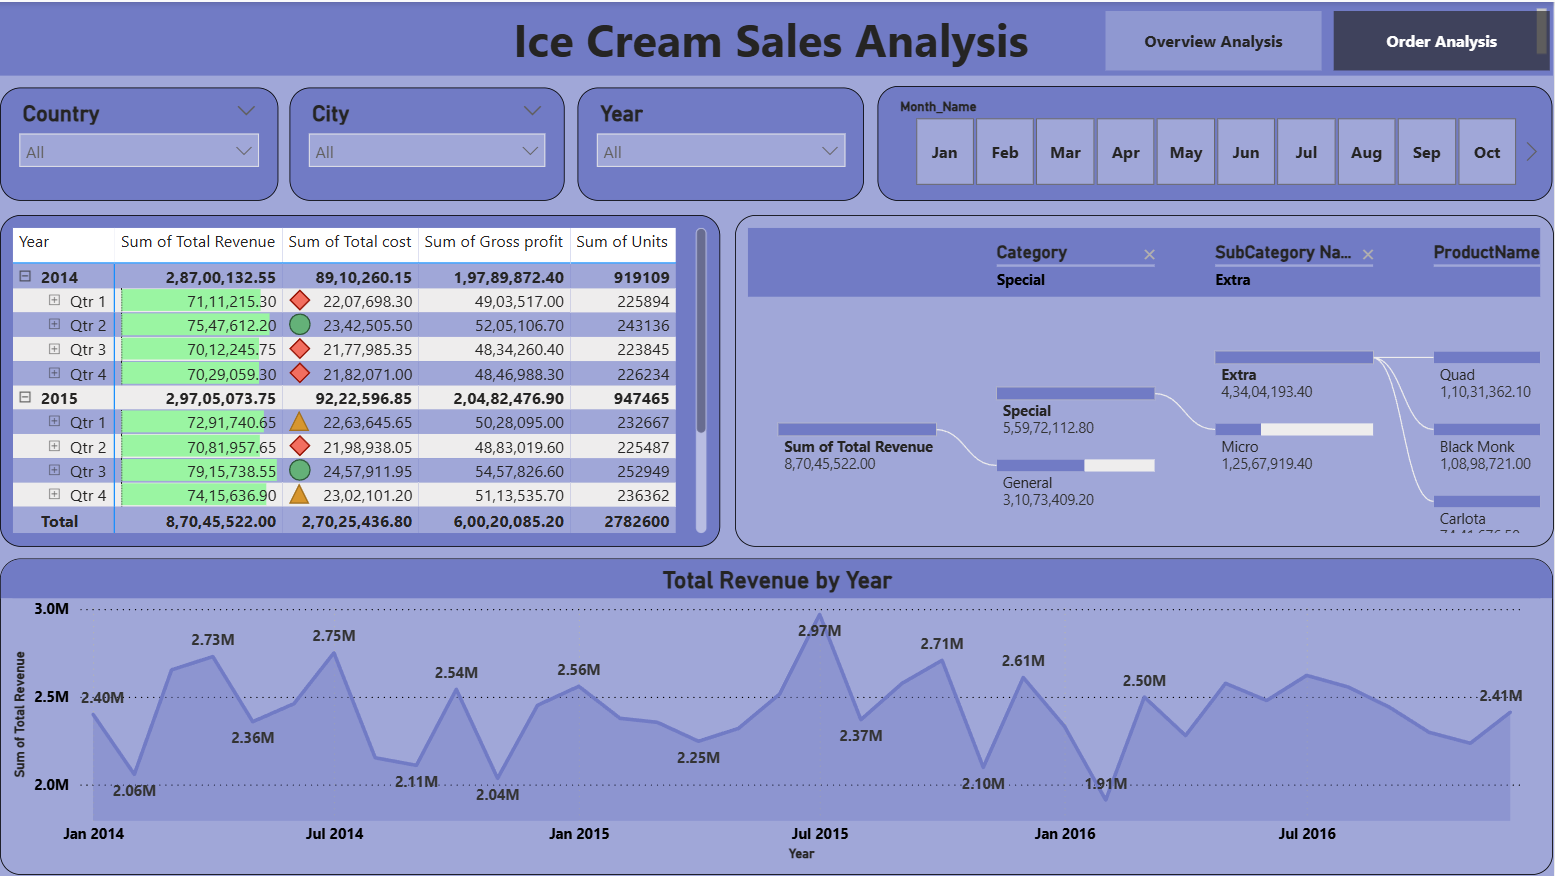

This screenshot's page, from the dashboard's own definition file:
{"tool":"powerbi","page":{"name":"Order Analysis","canvas":[1280,720],"ordinal":1},"visuals":[{"type":"slicer","fields":{"Values":["Date Master.Year"]},"box":[476.2,70,236,93.3],"z":0},{"type":"actionButton","box":[0,0,100,40],"z":1000},{"type":"textbox","box":[0,0,1279,60.4],"z":2000},{"type":"slicer","fields":{"Values":["Geography.Country"]},"box":[0,70,229.2,93.3],"z":3000},{"type":"slicer","fields":{"Values":["Geography.city"]},"box":[238.8,70,226.4,93.3],"z":4000},{"type":"slicer","fields":{"Values":["Date Master.Month_Name"]},"box":[723.2,68.6,555.8,94.7],"z":5000},{"type":"lineChart","title":"Total Revenue by Year","fields":{"Category":["Date Master.Date.Variation.Date Hierarchy.Year","Date Master.Date.Variation.Date Hierarchy.Quarter","Date Master.Date.Variation.Date Hierarchy.Month","Date Master.Date.Variation.Date Hierarchy.Day"],"Y":["Sum(Final Sales.Total Revenue)"]},"box":[0,458.8,1279.5,260.4],"z":6000},{"type":"pivotTable","fields":{"Rows":["Date Master.Date.Variation.Date Hierarchy.Year","Date Master.Date.Variation.Date Hierarchy.Quarter","Date Master.Date.Variation.Date Hierarchy.Month","Date Master.Date.Variation.Date Hierarchy.Day"],"Values":["Sum(Final Sales.Total Revenue)","Sum(Final Sales.Total cost)","Sum(Final Sales.Gross profit)","Sum(Final Sales.Units)"]},"box":[0,175.7,593.4,273],"z":7000},{"type":"decompositionTreeVisual","fields":{"Analyze":["Sum(Final Sales.Total Revenue)"],"ExplainBy":["Categories.Category","SubCategory.SubCategory Name","Product.ProductName"]},"box":[605.5,175.5,674.7,273.1],"z":8000},{"type":"pageNavigator","box":[911.2,6.9,367.8,49.4],"z":9000}]}

Visuals, with their boxes in screenshot pixels (x1, y1, x2, y2), scaled from the page's 1280x720 canvas onto the 1555x876 screenshot:
slicer - Date Master.Year: 579 85 865 199
actionButton: 0 0 121 49
textbox: 0 0 1554 73
slicer - Geography.Country: 0 85 278 199
slicer - Geography.city: 290 85 565 199
slicer - Date Master.Month_Name: 879 83 1554 199
"Total Revenue by Year" lineChart: 0 558 1554 875
pivotTable - Date Master.Date.Variation.Date Hierarchy.Year x Date Master.Date.Variation.Date Hierarchy.Quarter: 0 214 721 546
decompositionTreeVisual - Sum(Final Sales.Total Revenue) x Categories.Category: 736 214 1554 546
pageNavigator: 1107 8 1554 68
